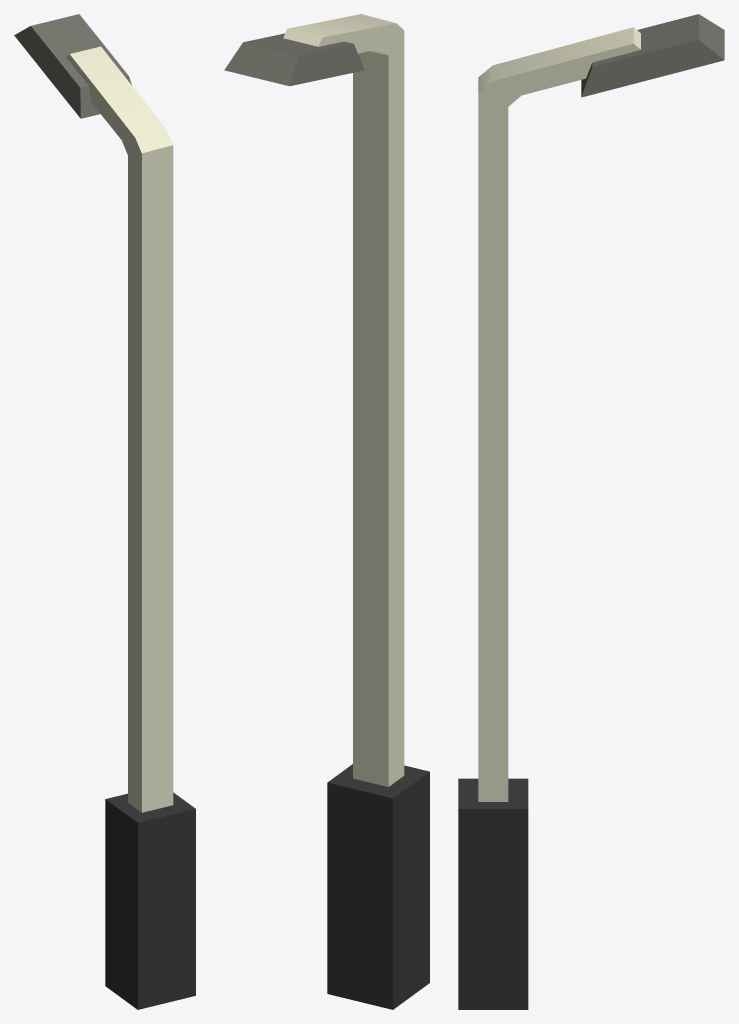
Rendered from lamp1.fbx.
3 renders of one model, left to right at view 1: azimuth 30°, elevation 25°; view 2: azimuth 150°, elevation 25°; view 3: azimuth 270°, elevation 25°, orthographic. The views are drawn at different scales.
Visible parts, largest first — view 1: lamp1; view 2: lamp1; view 3: lamp1.
Boxes of the visible parts, <box> form: lamp1: <box>14,14,195,1009</box>; lamp1: <box>224,14,429,1009</box>; lamp1: <box>458,14,724,1009</box>.
Size of the model in its own units: 45.57 by 676 by 168.
